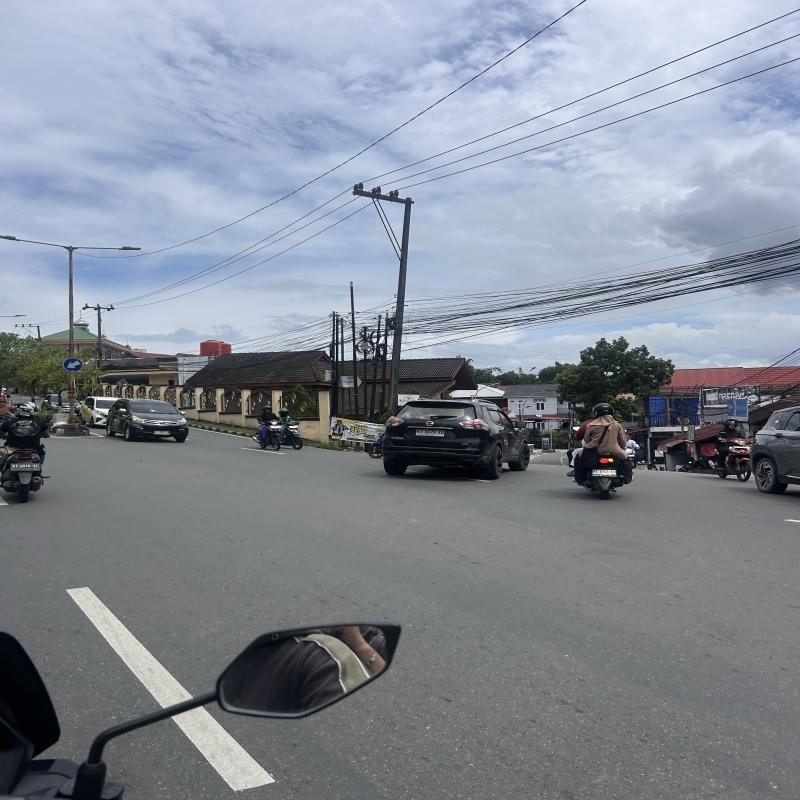license plate on a car: (415, 429, 444, 437), (154, 431, 170, 435), (62, 410, 70, 412)
